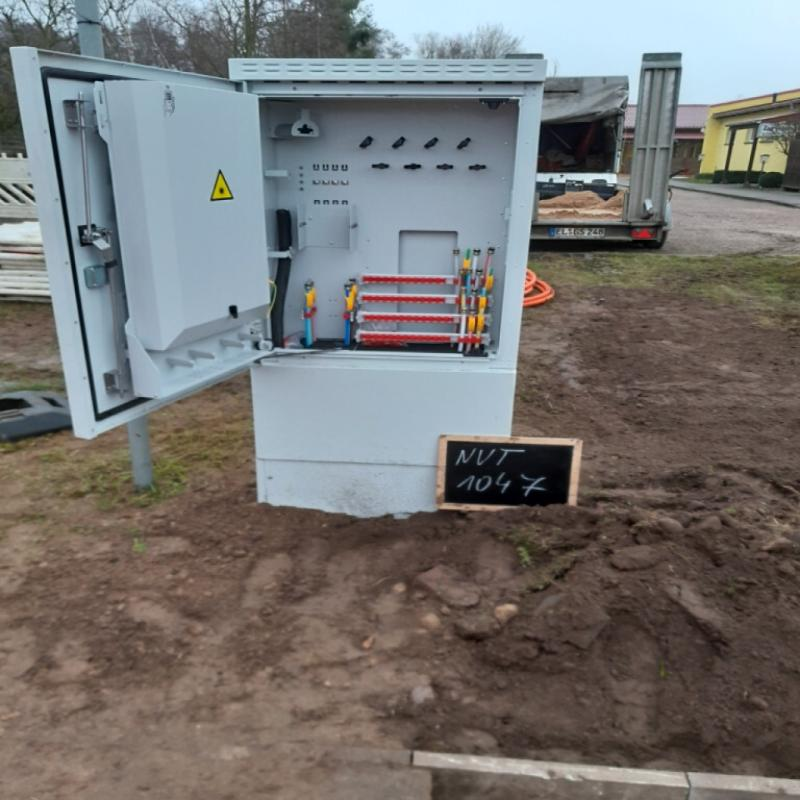NT-Gehause: (13, 47, 545, 509)
